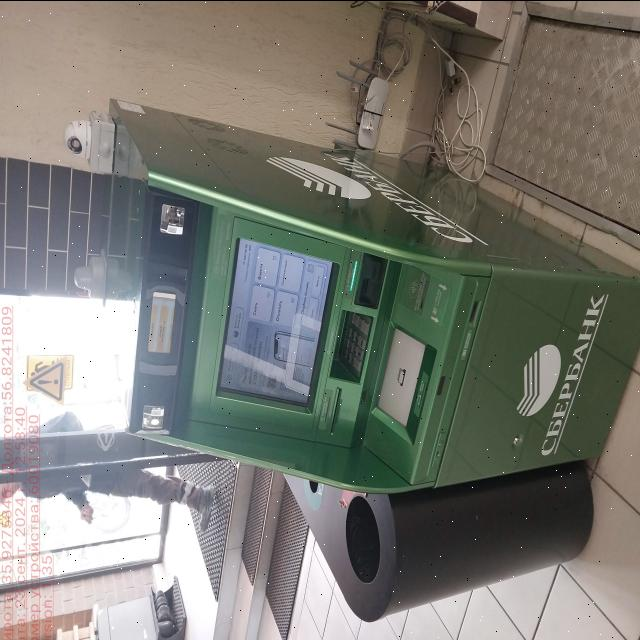bank: (102, 98, 640, 495)
